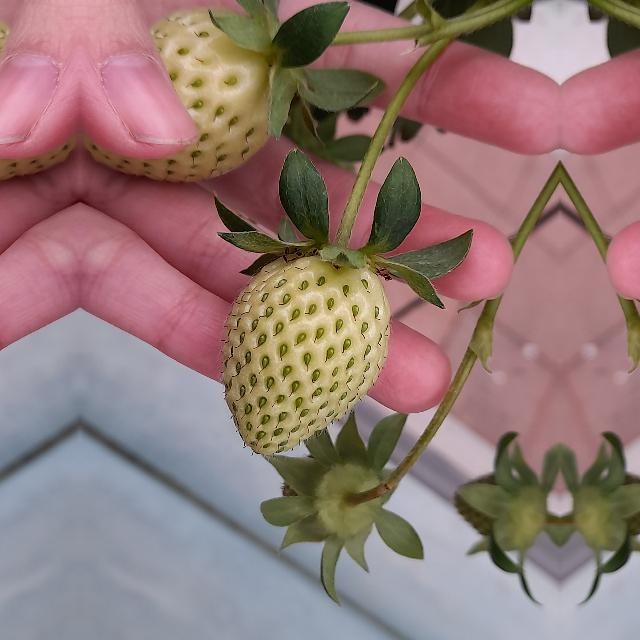Health_25: (80, 8, 280, 185), (222, 252, 390, 454), (0, 8, 80, 185)
